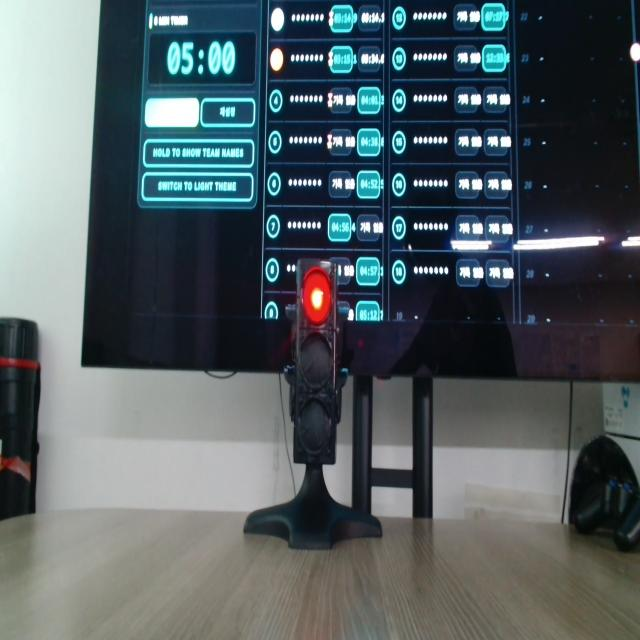red_light: (302, 268, 331, 324)
